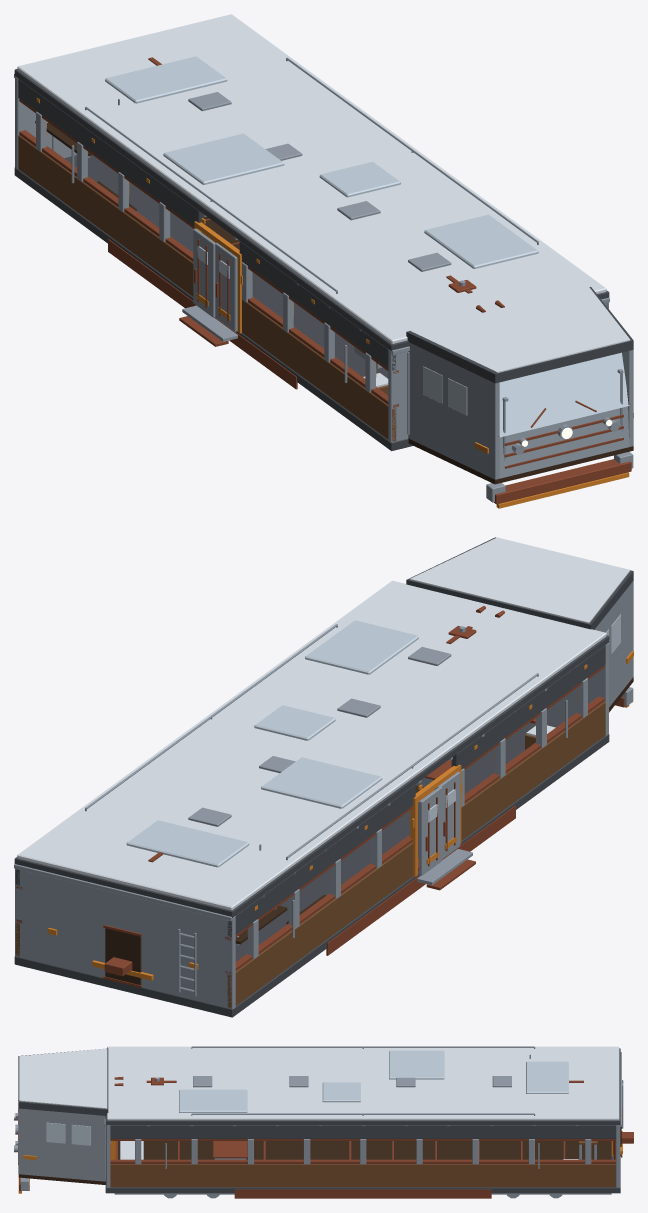
The model's file is TrainCar.fbx.
The picture shows the model from 3 angles, top to bottom: view 1: azimuth 30°, elevation 25°; view 2: azimuth 150°, elevation 25°; view 3: azimuth 270°, elevation 25°; orthographic projection. The views are drawn at different scales.
Visible parts, largest first — view 1: TrainBody, TrainSideDoorR, TrainSideDoorL; view 2: TrainBody, TrainSideDoorR, TrainSideDoorL; view 3: TrainBody.
Boxes of the visible parts, <box> form: TrainBody: <box>14,14,633,508</box>; TrainSideDoorR: <box>193,228,215,317</box>; TrainSideDoorL: <box>215,242,237,331</box>; TrainBody: <box>14,537,633,1017</box>; TrainSideDoorR: <box>419,786,442,875</box>; TrainSideDoorL: <box>437,771,460,858</box>; TrainBody: <box>14,1046,633,1198</box>.
Size of the model in its own units: 889 by 481 by 2894.
